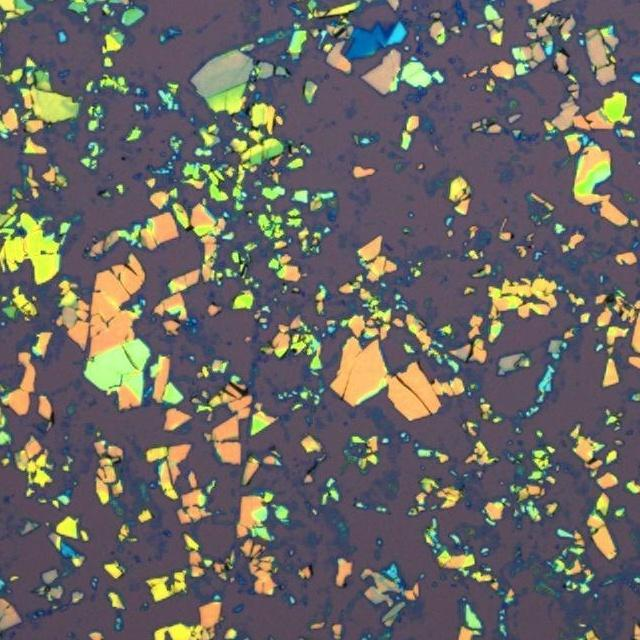monolayer-eWW4: (382, 18, 388, 31)
